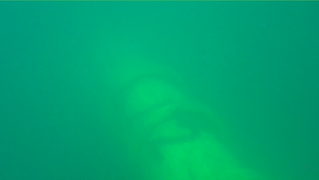2: (146, 119, 200, 164)
pipe: (74, 1, 271, 179)
